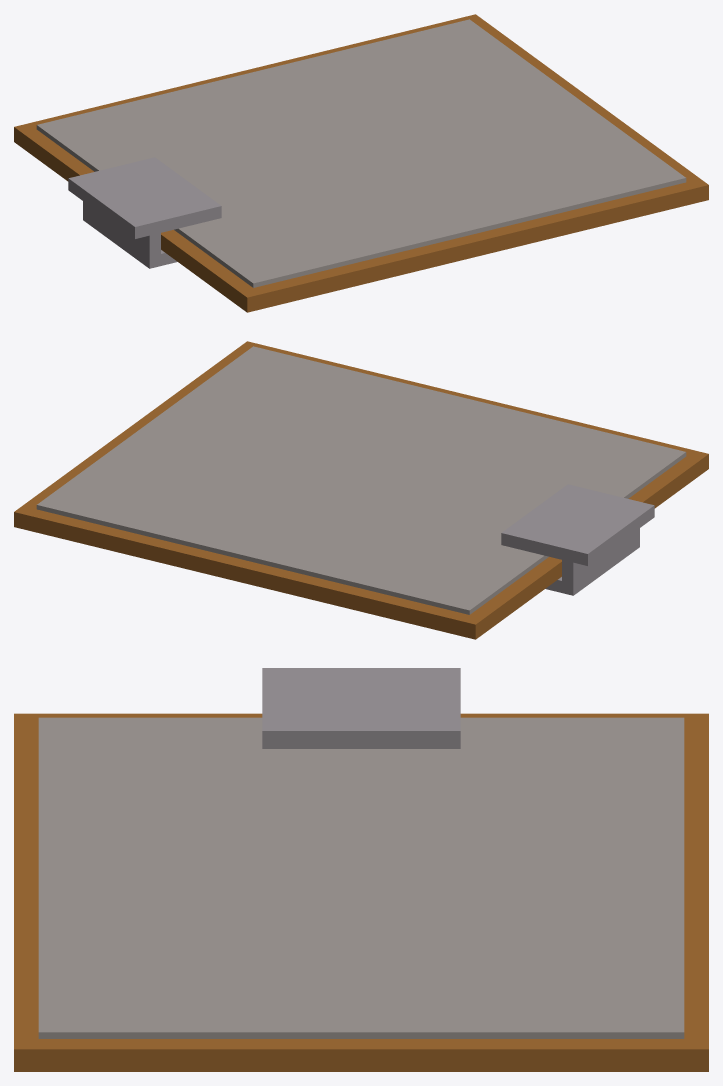
File: Clipboard.fbx
The picture shows the model from 3 angles, top to bottom: view 1: azimuth 30°, elevation 25°; view 2: azimuth 150°, elevation 25°; view 3: azimuth 270°, elevation 25°; orthographic projection. The views are drawn at different scales.
Parts seen in each view (by area): view 1: ClipboardPaper, ClipboardBase, ClipboardClip; view 2: ClipboardPaper, ClipboardBase, ClipboardClip; view 3: ClipboardPaper, ClipboardBase, ClipboardClip.
Part boxes in pixels (box(x1,y1,x2,y2)): ClipboardPaper: box(36, 19, 686, 287); ClipboardBase: box(14, 14, 708, 312); ClipboardClip: box(68, 157, 221, 268); ClipboardPaper: box(36, 346, 686, 614); ClipboardBase: box(14, 341, 708, 639); ClipboardClip: box(501, 484, 654, 595); ClipboardPaper: box(38, 717, 684, 1038); ClipboardBase: box(14, 713, 708, 1071); ClipboardClip: box(262, 668, 460, 748).
Size of the model in its own units: 170 by 15 by 140.
